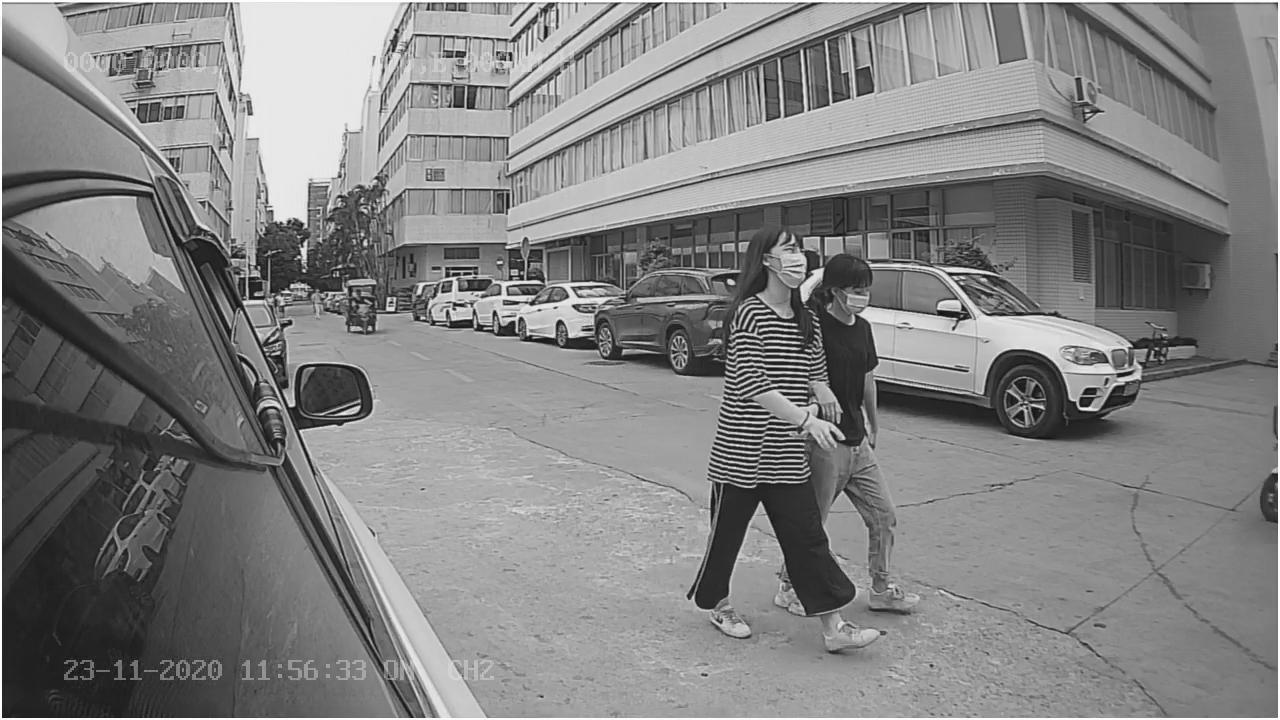person: (676, 220, 828, 667)
